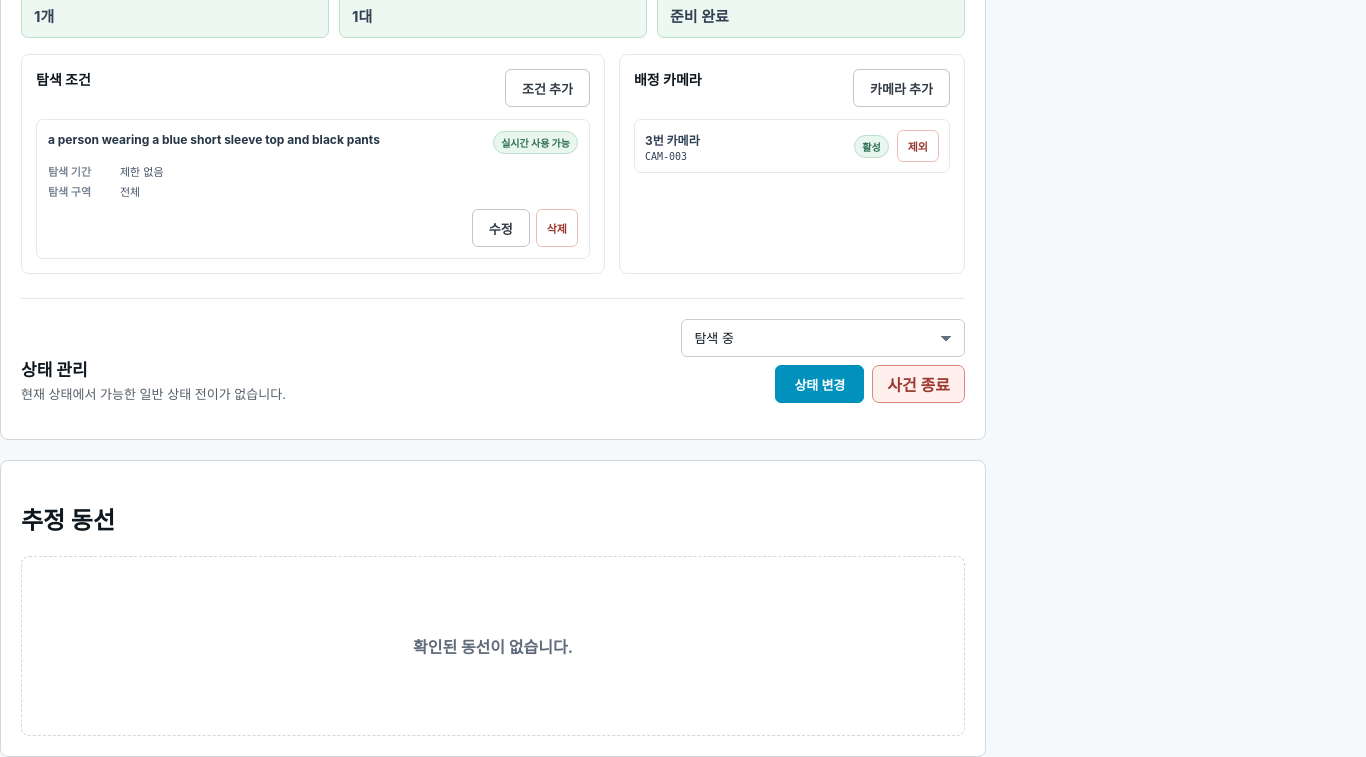
Test case: CaseDetailView › 상태 변경 사유를 필수로 보내고 RECEIVED→SEARCHING 422를 안내한다
The width and height of the screenshot is (1366, 757).
(page scrolled)
Click the button "상태 변경": (820,384) [775,365,864,403]
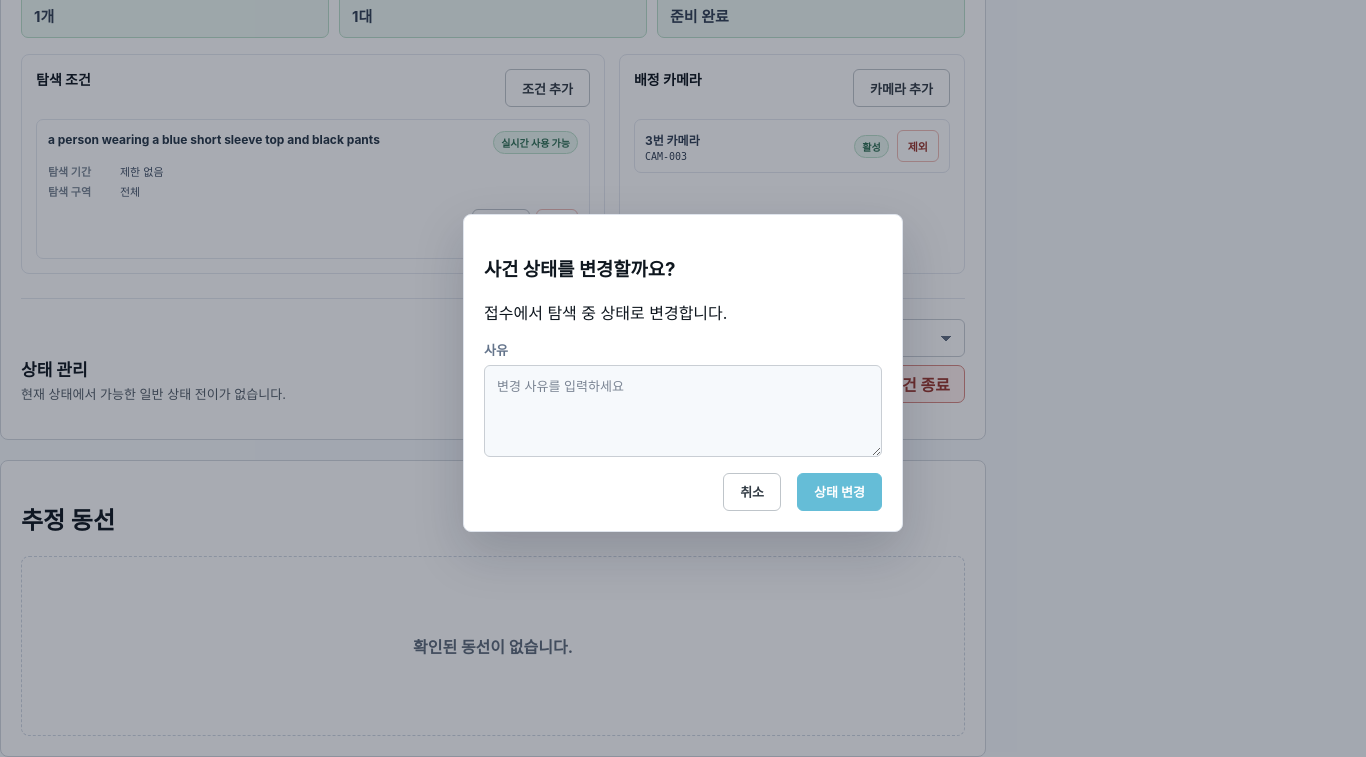
Check: the button "상태 변경" is disabled, box [797,473,882,511]
In the text box labelled "사유": (683,411) [484,365,882,457], type "탐색 개시"
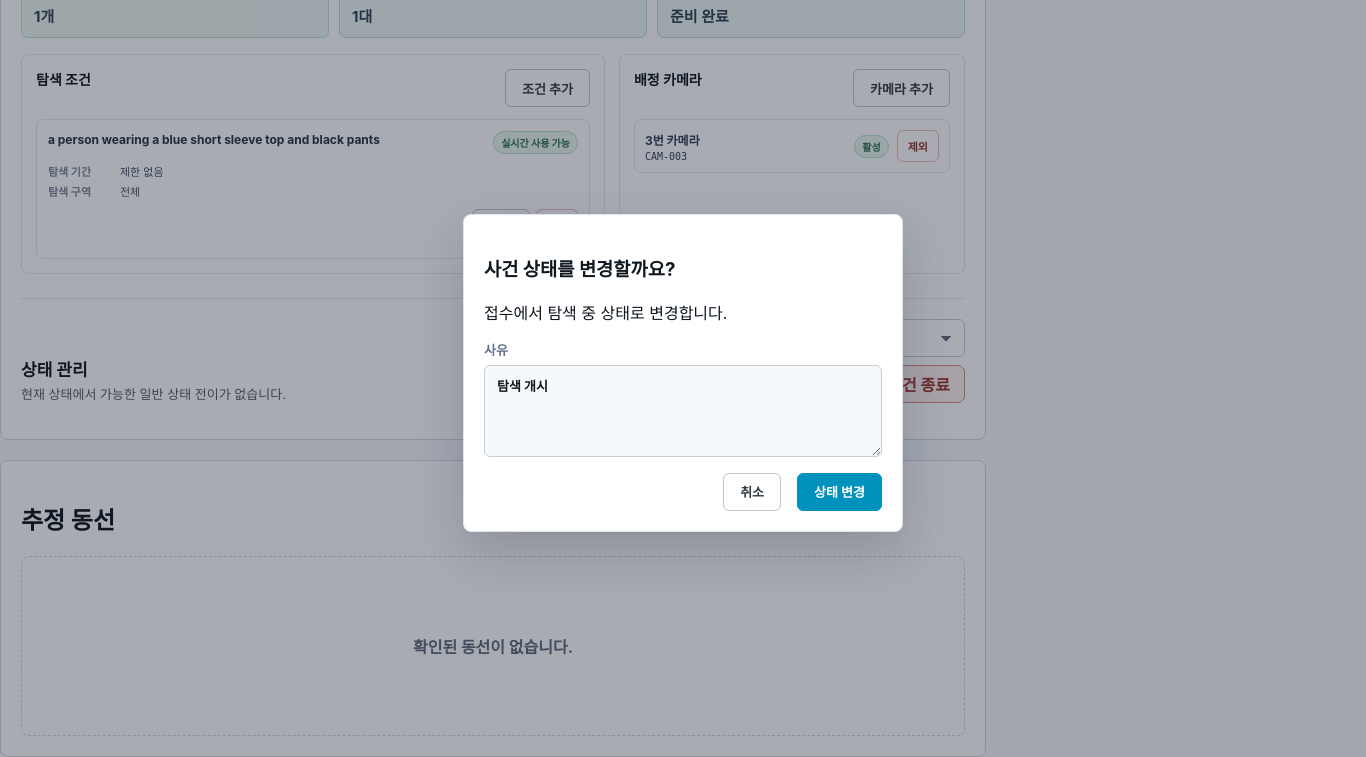
Click the button "상태 변경": (840,492) [797,473,882,511]
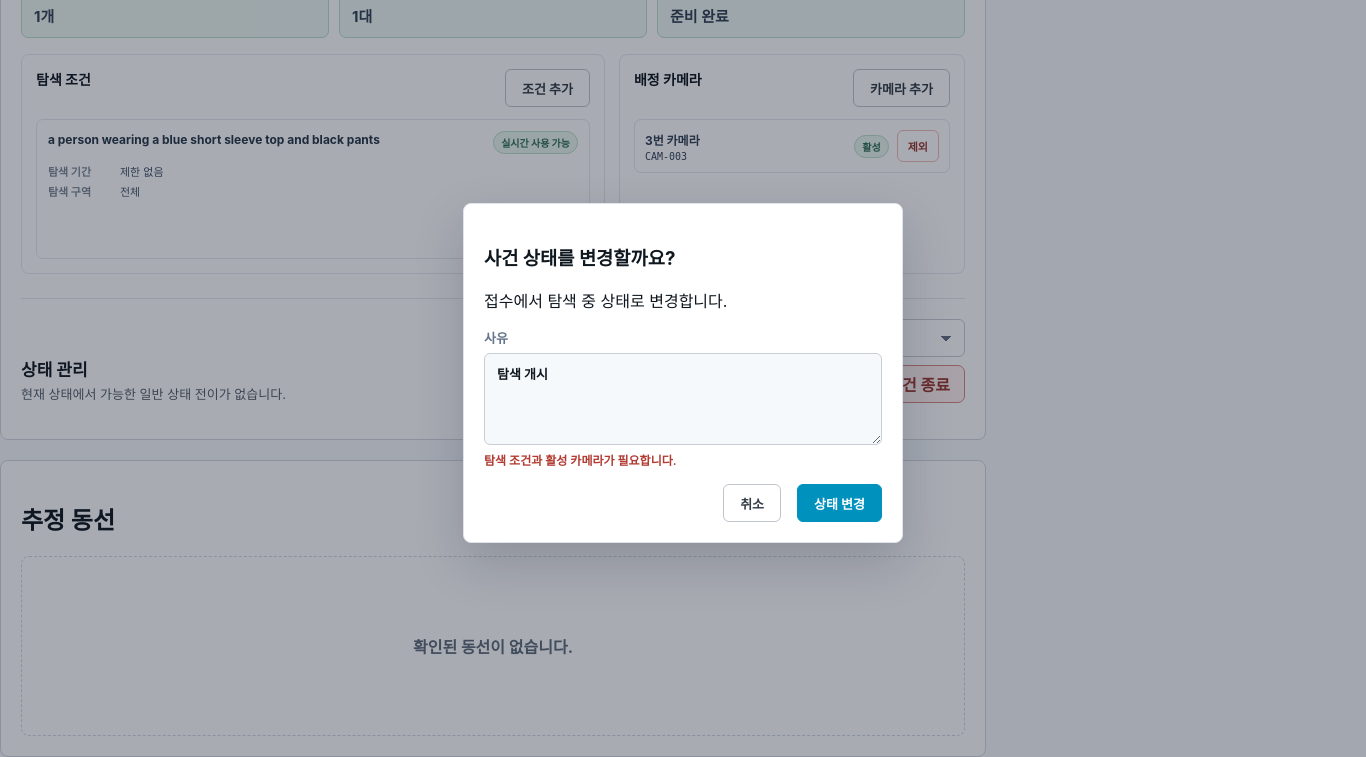
Check: the text "탐색 조건과 활성 카메라가 필요합니다." is shown, box [484,453,677,468]
